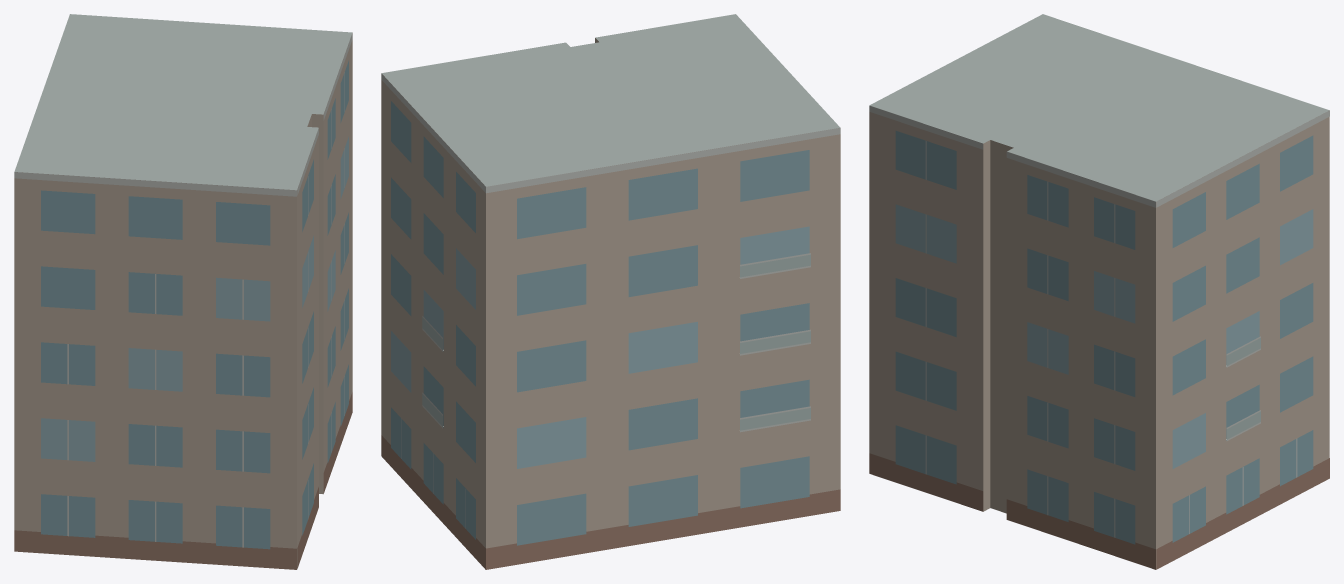
File: survey-upis-32843975.glb
The picture shows the model from 3 angles, left to right: view 1: azimuth 30°, elevation 25°; view 2: azimuth 150°, elevation 25°; view 3: azimuth 270°, elevation 25°; orthographic projection. The views are drawn at different scales.
Parts seen in each view (by area): view 1: survey-upis-32843975.tmp; view 2: survey-upis-32843975.tmp; view 3: survey-upis-32843975.tmp.
Boxes of the visible parts, x1,y1,x2,y2 form: survey-upis-32843975.tmp: [14, 14, 352, 569]; survey-upis-32843975.tmp: [381, 14, 840, 569]; survey-upis-32843975.tmp: [869, 14, 1329, 569].
Size of the model in its own units: 15.7 by 14.35 by 16.27.
